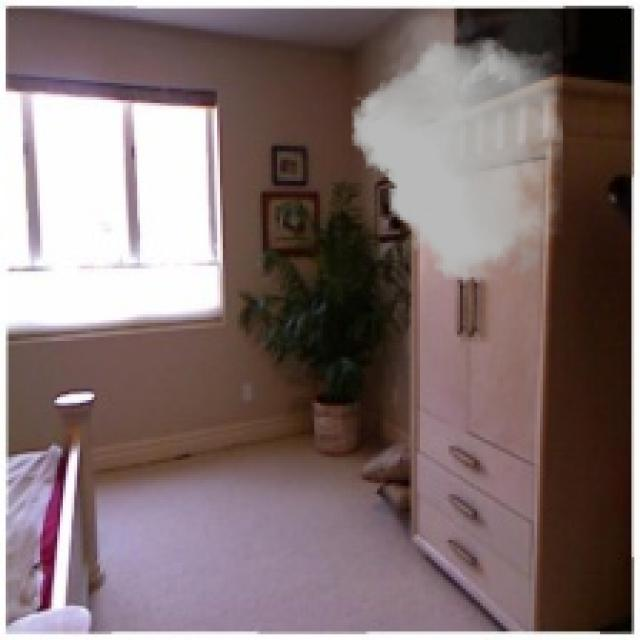smoke: (351, 6, 563, 286)
